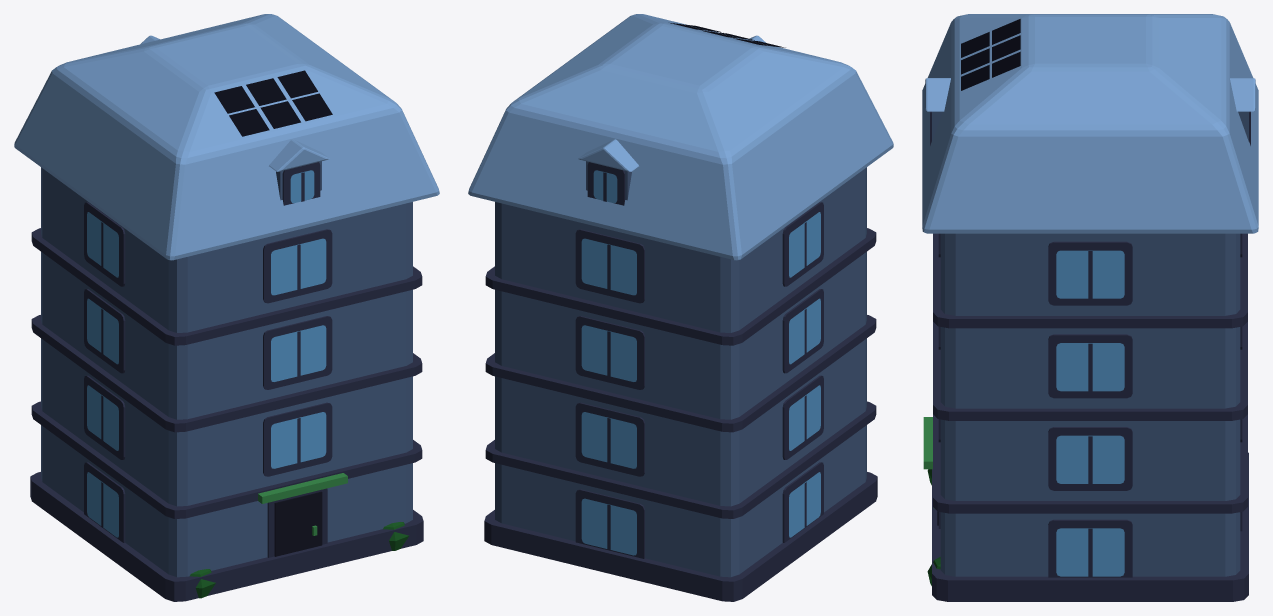
The model's file is house-1x1-4f-mansard-b-solar.glb.
The picture shows the model from 3 angles, left to right: view 1: azimuth 30°, elevation 25°; view 2: azimuth 150°, elevation 25°; view 3: azimuth 270°, elevation 25°; orthographic projection. The views are drawn at different scales.
Visible parts, largest first — view 1: house-1x1-4f-mansard-b-solar; view 2: house-1x1-4f-mansard-b-solar; view 3: house-1x1-4f-mansard-b-solar.
Part boxes in pixels (<box>): house-1x1-4f-mansard-b-solar: <box>14,14,439,601</box>; house-1x1-4f-mansard-b-solar: <box>468,14,893,601</box>; house-1x1-4f-mansard-b-solar: <box>922,14,1258,601</box>.
Size of the model in its own units: 0.9876 by 1.6 by 0.9876.
Materials: 1 (1 with a texture image).
